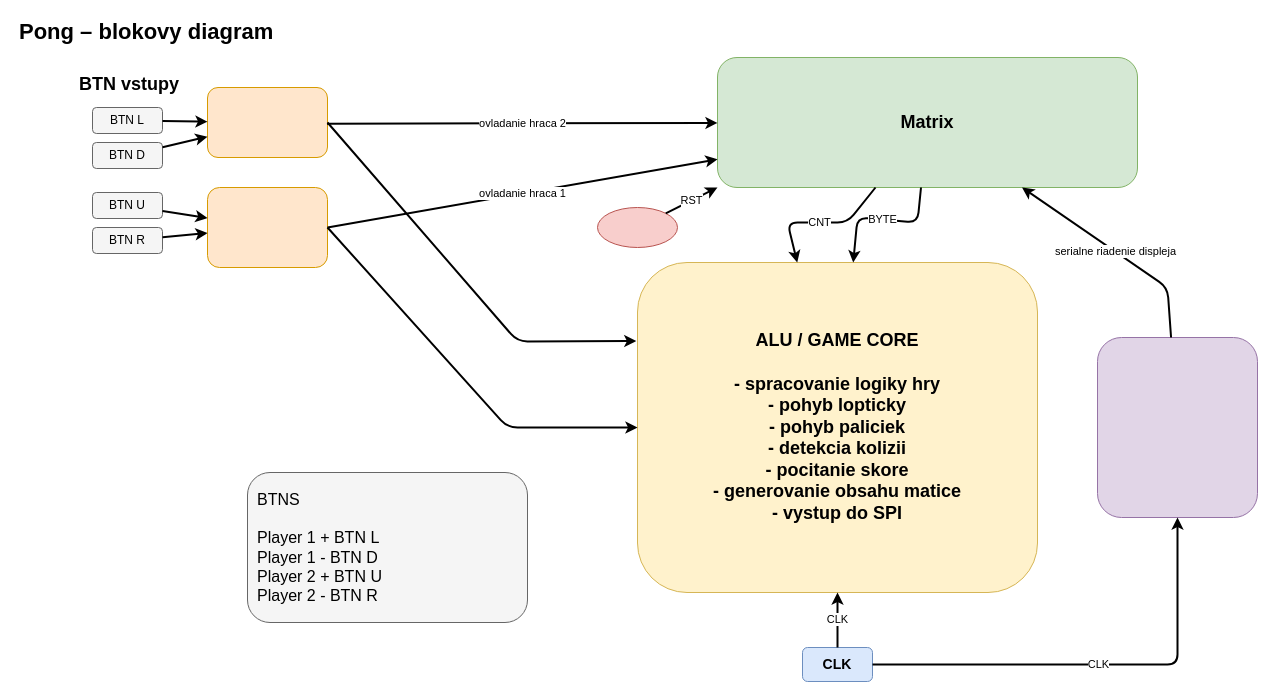
Image size: 1275x699. Some labels were removed from this diagram. Here are the shapes that lost their labels. From the top down, the centre of each, then its label:
(267,122): P2 logic
(267,227): P1 logic
(637,227): RST-BTN
(1177,427): SPI vystupy: DATA CLK CS1 CS2
